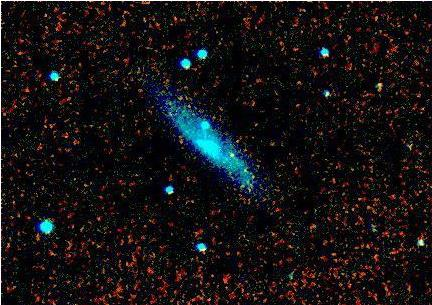star: (214, 140, 244, 170)
